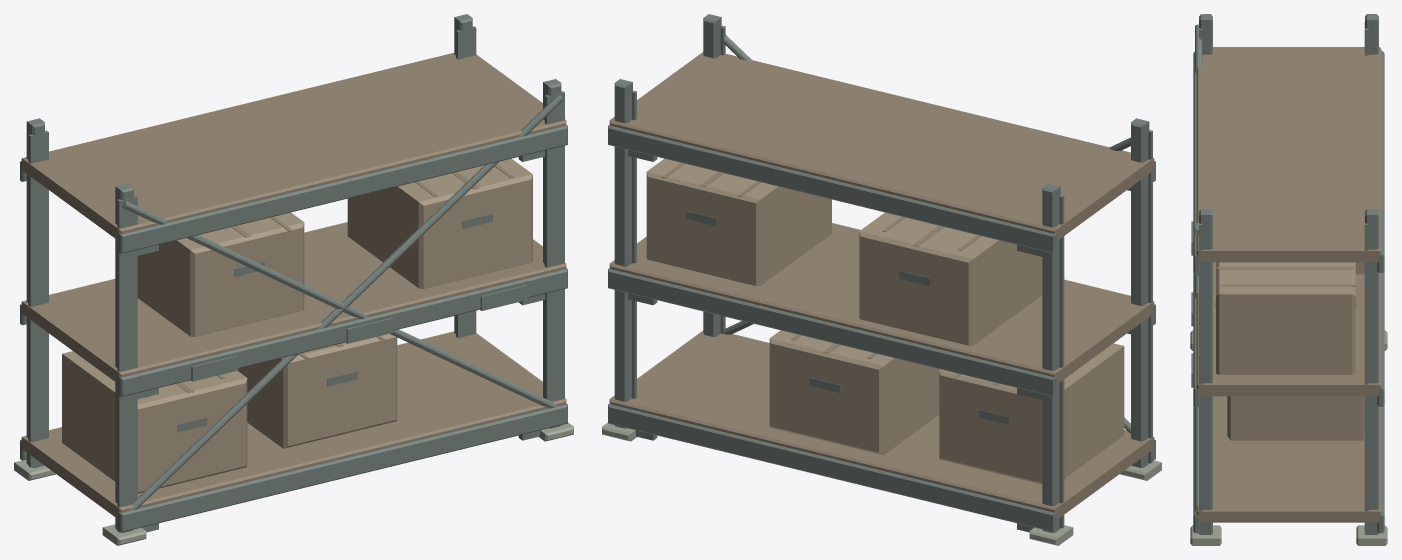
The model's file is Rack.fbx.
The picture shows the model from 3 angles, left to right: view 1: azimuth 30°, elevation 25°; view 2: azimuth 150°, elevation 25°; view 3: azimuth 270°, elevation 25°; orthographic projection. The views are drawn at different scales.
Visible parts, largest first — view 1: Shelves__Timber, Load__Cardboard, ShelfLips__Steel, Posts__Steel, BackBrace__Steel, Shoes__WornSteel, CartonHandholds__ConcreteDark, CartonSeams__Timber; view 2: Shelves__Timber, Load__Cardboard, ShelfLips__Steel, Posts__Steel, Shoes__WornSteel, CartonHandholds__ConcreteDark, CartonSeams__Timber, BackBrace__Steel; view 3: Shelves__Timber, Load__Cardboard, Posts__Steel, ShelfLips__Steel, Shoes__WornSteel, CartonSeams__Timber, BackBrace__Steel.
Part boxes in pixels (x1,y1,x2,y2): Shelves__Timber: [21, 53, 566, 519]; Load__Cardboard: [62, 158, 532, 493]; ShelfLips__Steel: [20, 124, 567, 532]; Posts__Steel: [26, 14, 564, 532]; BackBrace__Steel: [121, 94, 563, 510]; Shoes__WornSteel: [14, 422, 573, 545]; CartonHandholds__ConcreteDark: [177, 213, 492, 432]; CartonSeams__Timber: [145, 164, 514, 397]; Shelves__Timber: [609, 52, 1154, 519]; Load__Cardboard: [646, 158, 1124, 484]; ShelfLips__Steel: [608, 124, 1155, 532]; Posts__Steel: [614, 14, 1152, 532]; Shoes__WornSteel: [602, 422, 1161, 545]; CartonHandholds__ConcreteDark: [686, 211, 1009, 424]; CartonSeams__Timber: [661, 162, 1030, 397]; BackBrace__Steel: [723, 35, 1149, 432]; Shelves__Timber: [1196, 47, 1381, 522]; Load__Cardboard: [1216, 262, 1364, 440]; Posts__Steel: [1199, 14, 1378, 534]; ShelfLips__Steel: [1191, 51, 1384, 533]; Shoes__WornSteel: [1190, 330, 1387, 545]; CartonSeams__Timber: [1217, 266, 1356, 286]; BackBrace__Steel: [1195, 24, 1202, 510].
Size of what is drawn, in the model's own units: 3 by 2.2 by 1.2.
